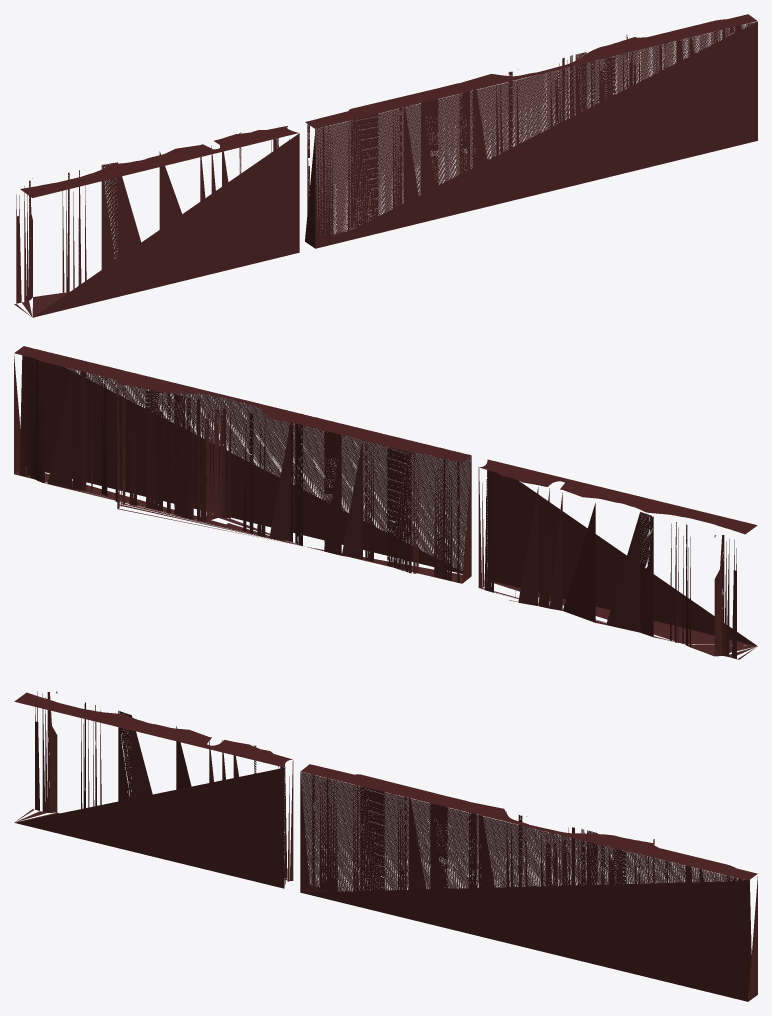
Rendered from land.FBX.
3 views of the same model, one above another, from view 1: azimuth 30°, elevation 25°; view 2: azimuth 150°, elevation 25°; view 3: azimuth 330°, elevation 25° (orthographic).
Visible parts, largest first — view 1: Shape1; view 2: Shape1; view 3: Shape1.
Part boxes in pixels (box(x1,y1,x2,y2)): Shape1: box(14, 14, 757, 317); Shape1: box(14, 346, 757, 659); Shape1: box(14, 691, 757, 1001).
Size of the model in its own units: 159 by 25 by 8.01.
